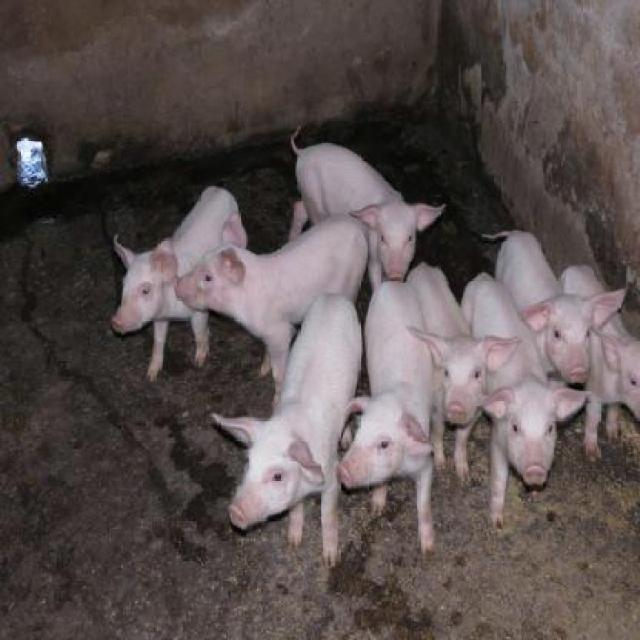Boar: (111, 125, 640, 568)
